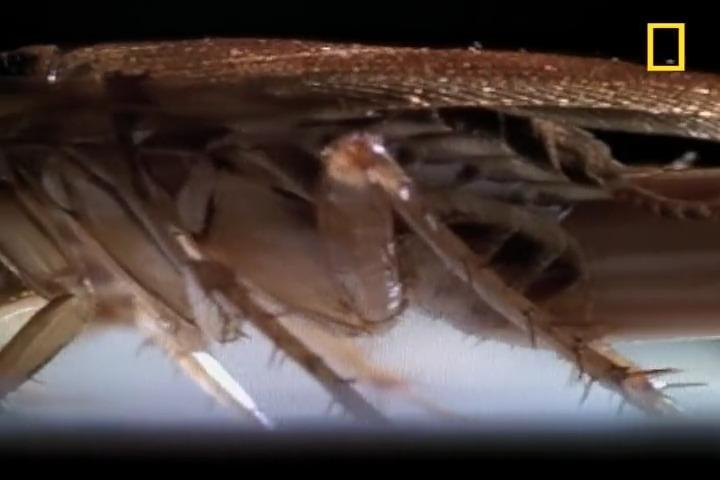cockroach: (0, 34, 643, 459)
